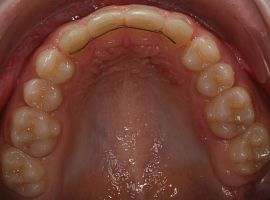UL1BC_decay: (197, 67, 236, 89)
UL1M_decay: (228, 131, 270, 170)
UL2BC_decay: (208, 97, 252, 129)
ULCI_decay: (125, 9, 163, 35)
ULC_healthy: (187, 35, 216, 67)
ULLI_decay: (167, 13, 191, 47)
UR1BC_healthy: (24, 78, 64, 109)
UR1M_decay: (4, 150, 48, 194)
UR2BC_decay: (13, 110, 61, 154)
URCI_decay: (85, 8, 123, 37)
URC_healthy: (32, 48, 75, 81)
URLI_decay: (61, 28, 87, 55)
